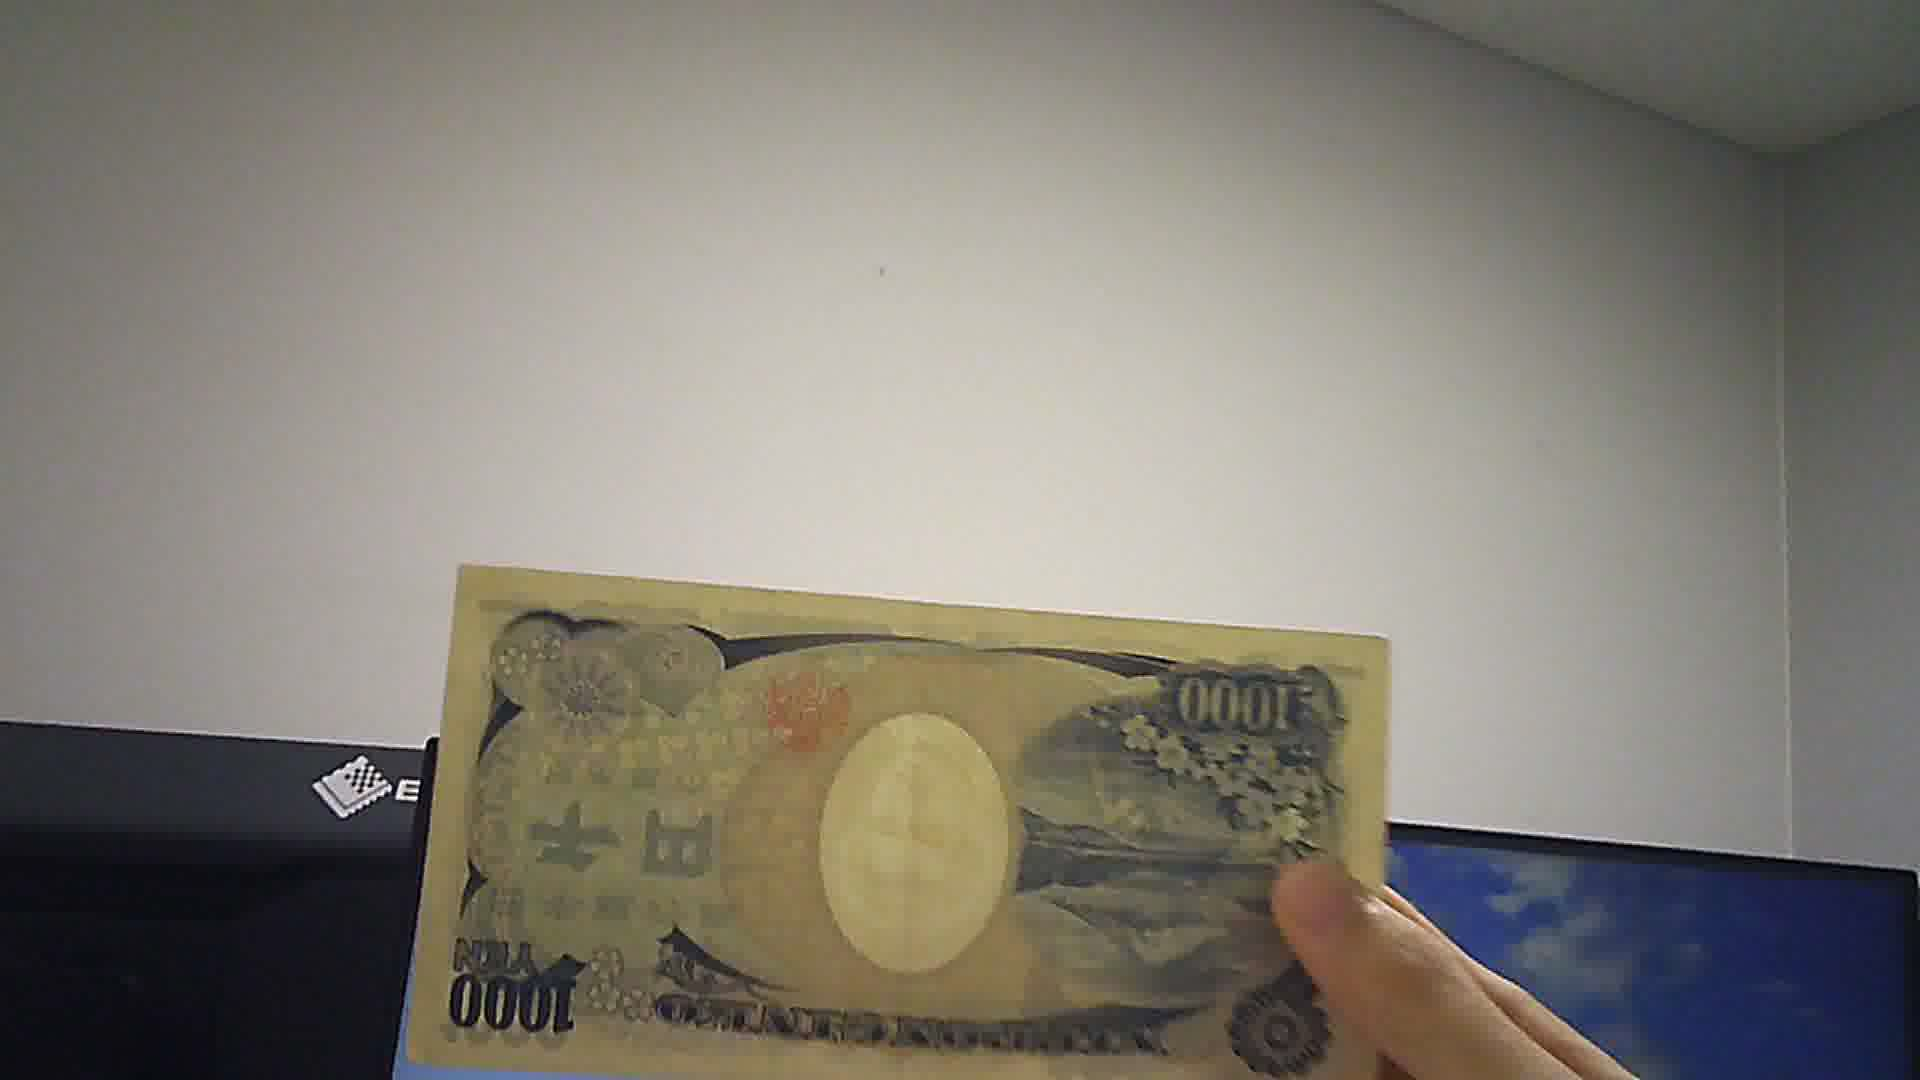1,000 Yen: (418, 556, 1395, 1075)
